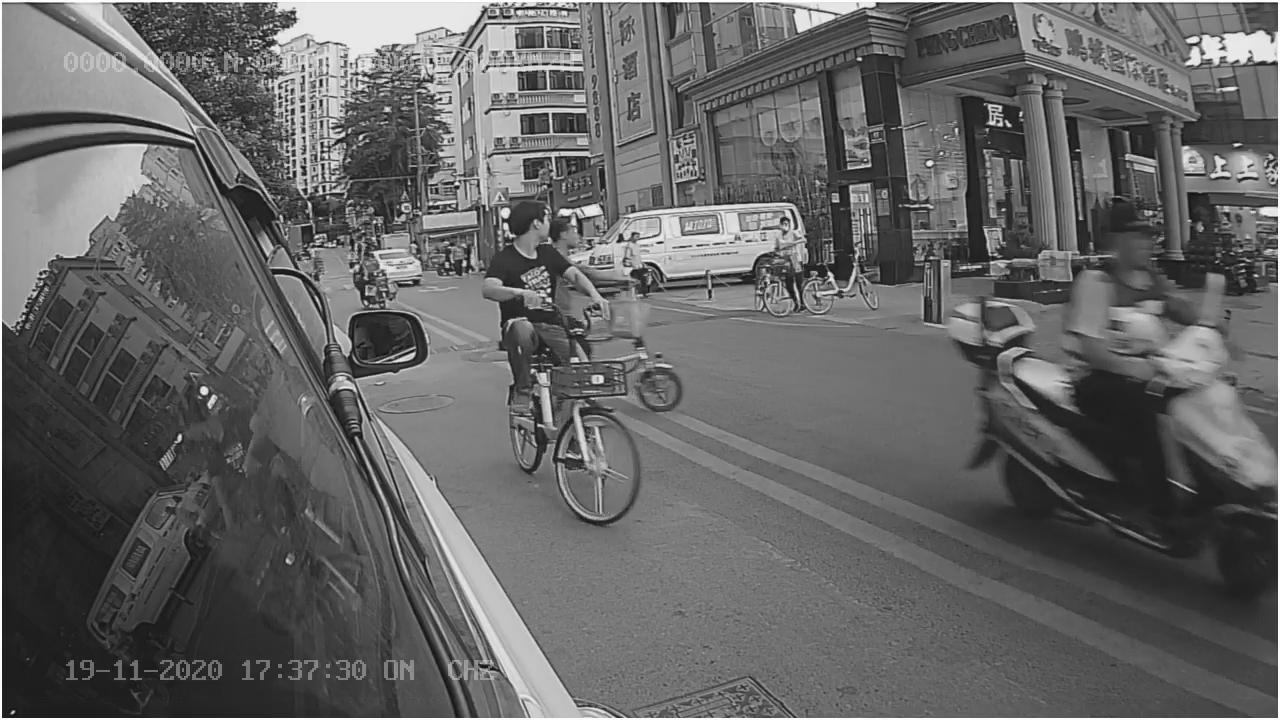person: (481, 199, 583, 294)
